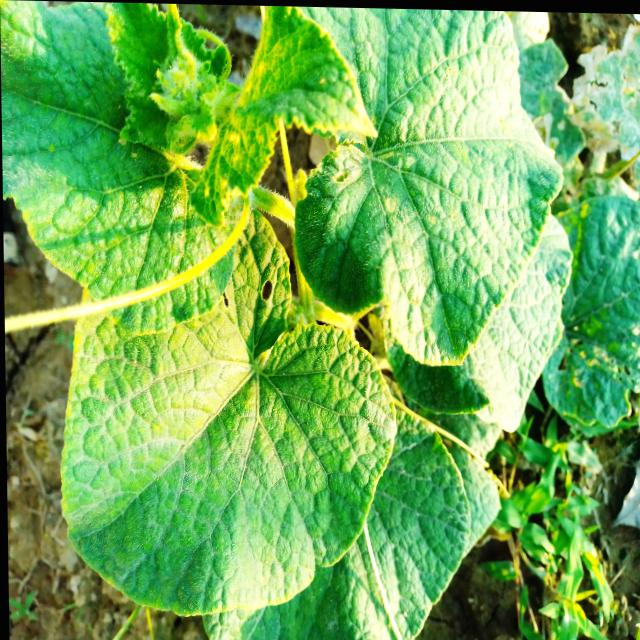Fresh-Leaf: (0, 0, 236, 341)
